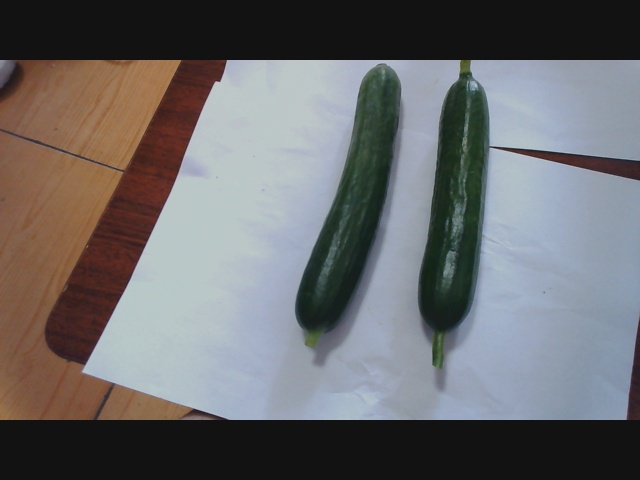cucumber: (299, 61, 404, 340), (423, 45, 496, 386)
